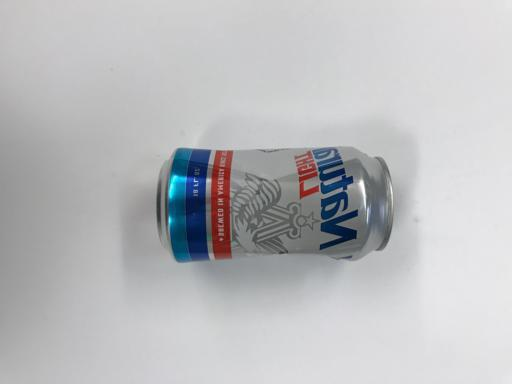metal: (154, 145, 396, 263)
